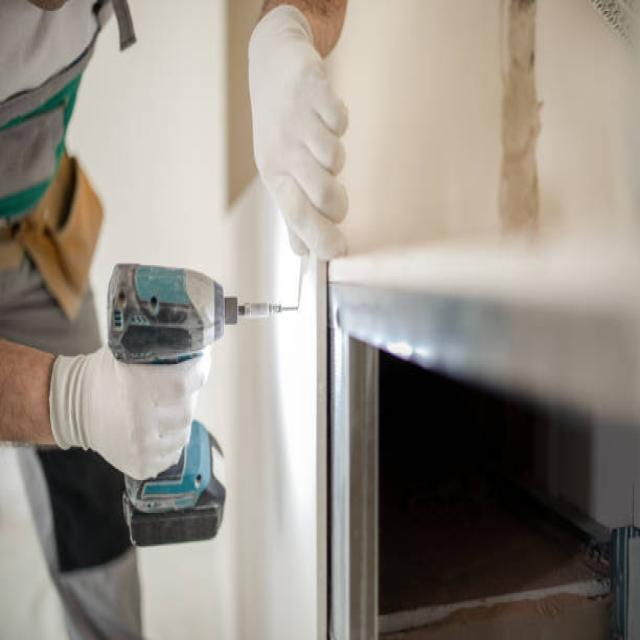gloves: (247, 8, 351, 254), (50, 345, 214, 477)
